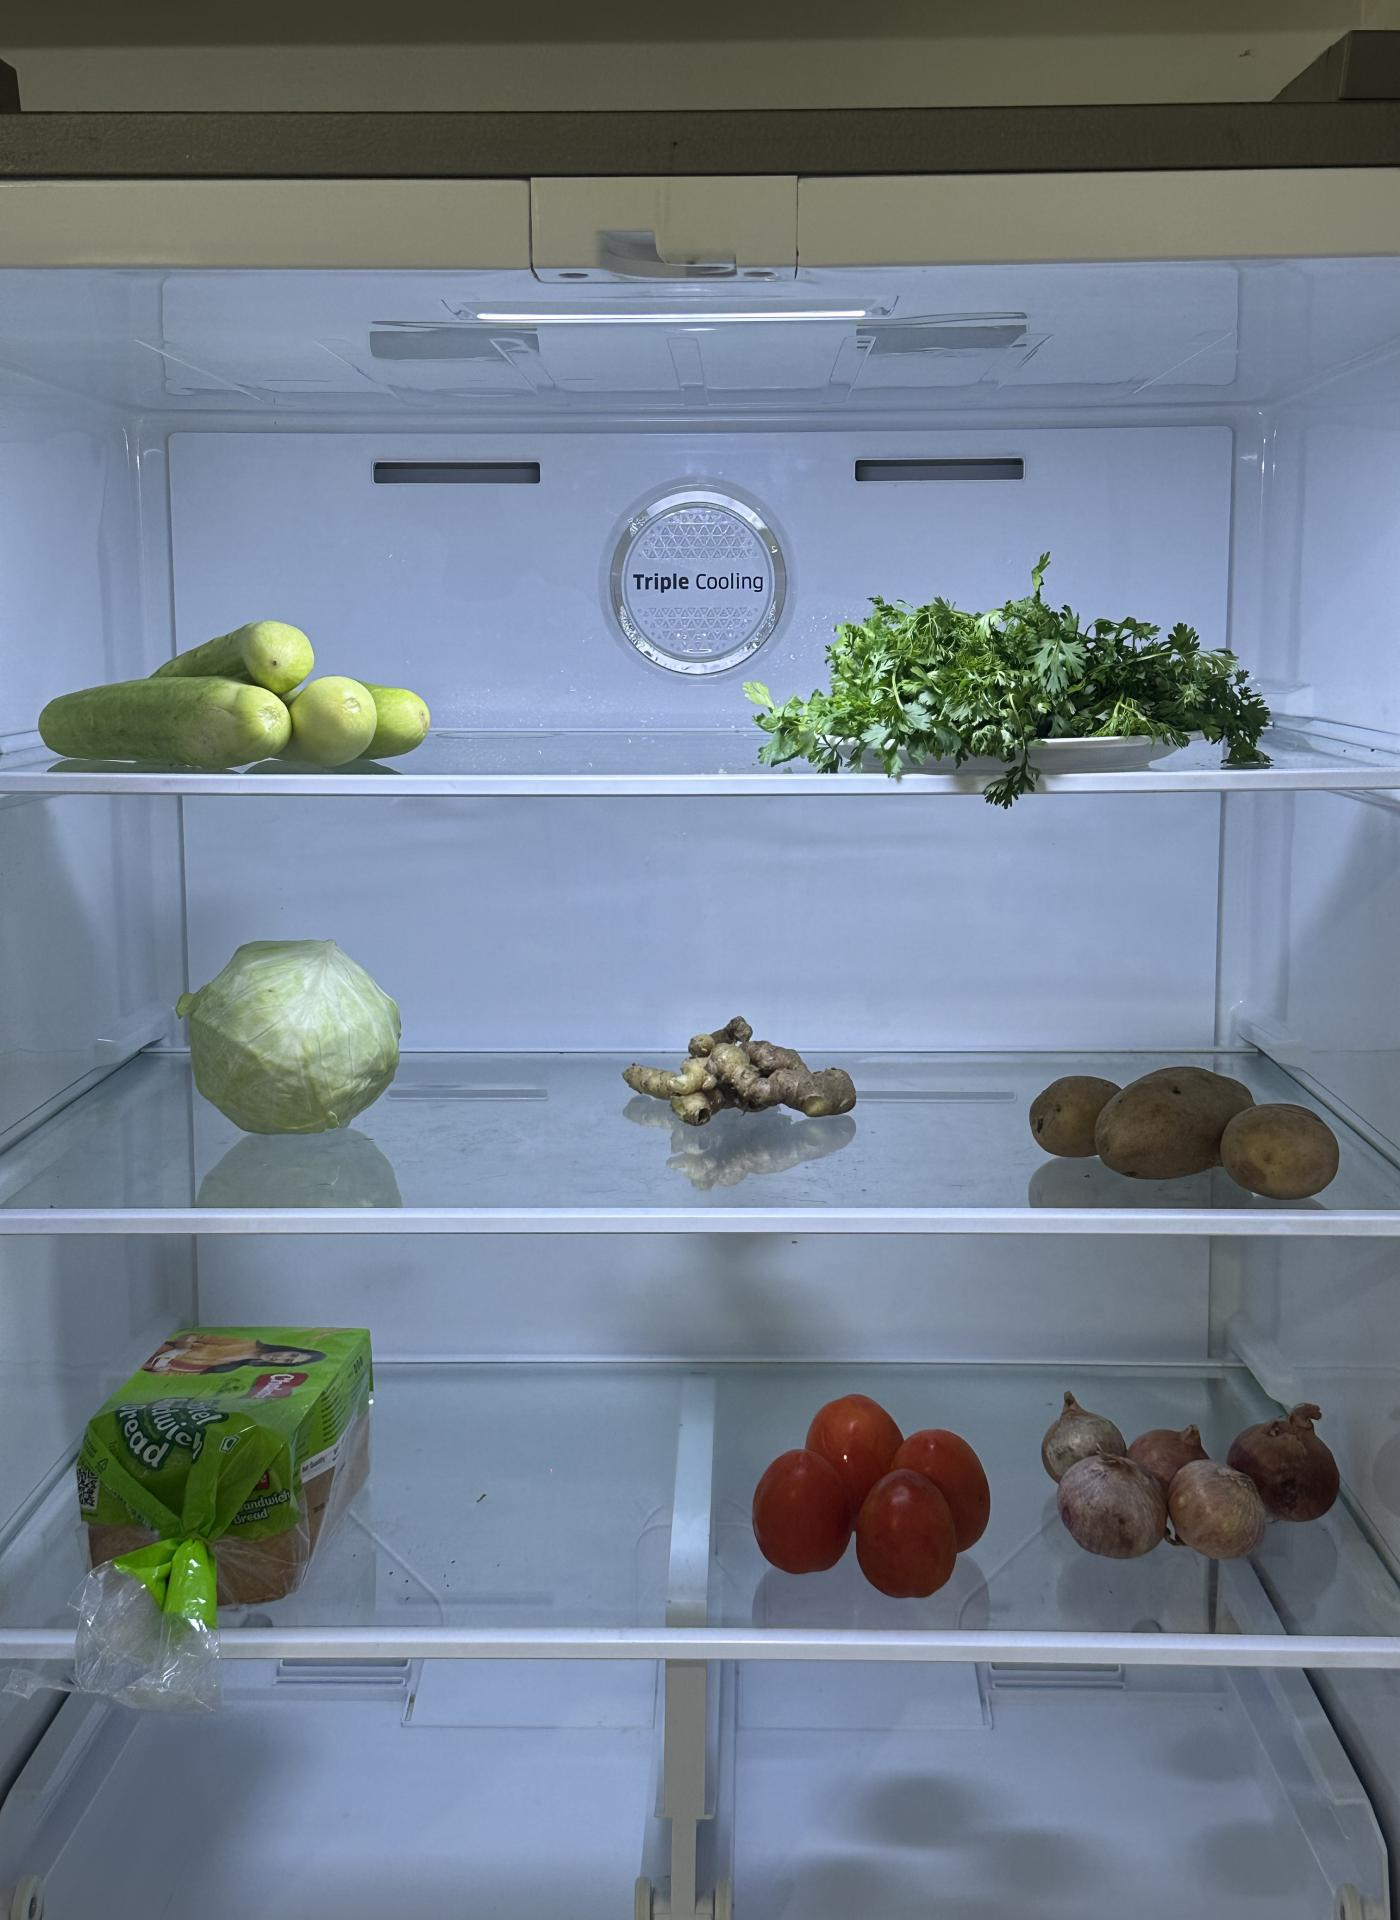bread: (76, 1318, 386, 1616)
cabbage: (173, 941, 406, 1146)
coriander: (774, 593, 1267, 774)
cucumber: (36, 625, 434, 798)
ginger: (629, 1011, 862, 1128)
onion: (1045, 1386, 1346, 1562)
potato: (1027, 1054, 1342, 1197)
tomato: (754, 1385, 997, 1594)
